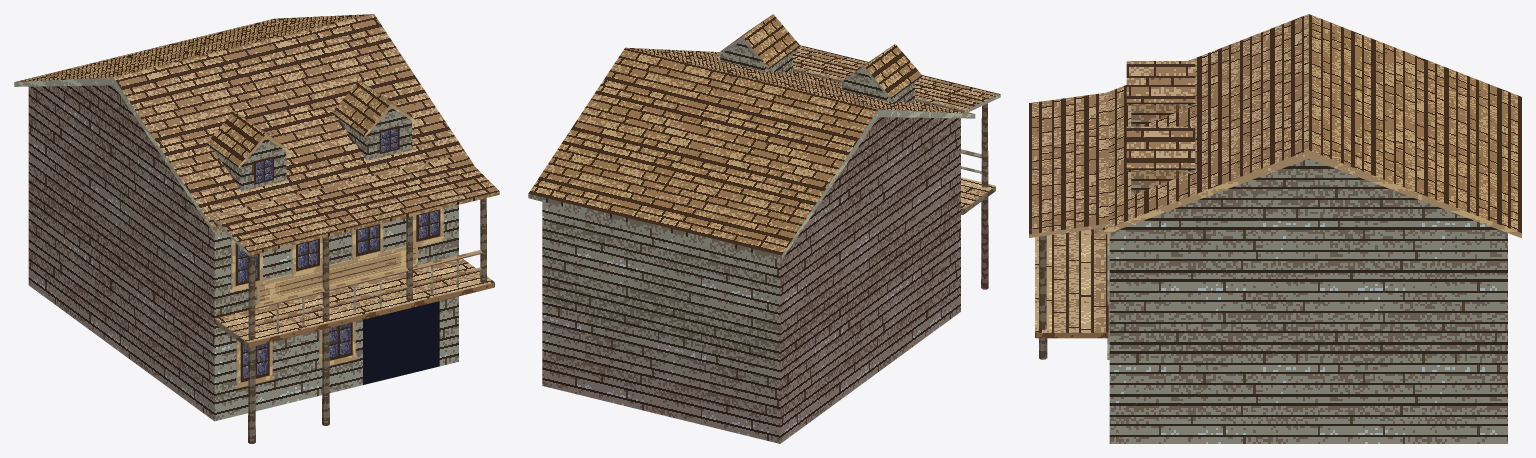
File: wtown.hotel__entry.glb
3 renders of one model, left to right at view 1: azimuth 30°, elevation 25°; view 2: azimuth 150°, elevation 25°; view 3: azimuth 270°, elevation 25°, orthographic. The views are drawn at different scales.
Visible parts, largest first — view 1: kit_body, kit_roof, kit_veranda, kit_card_panes, kit_veranda_roof, kit_dormer_roofs, kit_dormers, kit_windows, kit_trim; view 2: kit_body, kit_roof, kit_dormer_roofs, kit_veranda_roof, kit_veranda, kit_dormers; view 3: kit_body, kit_roof, kit_veranda_roof, kit_veranda, kit_dormer_roofs, kit_dormers.
Part boxes in pixels (left/top/right/bottom): kit_body: left=28, top=85, right=458, bottom=421; kit_roof: left=14, top=14, right=473, bottom=232; kit_veranda: left=214, top=198, right=494, bottom=443; kit_card_panes: left=235, top=126, right=440, bottom=384; kit_veranda_roof: left=211, top=154, right=499, bottom=255; kit_dormer_roofs: left=206, top=80, right=418, bottom=168; kit_dormers: left=215, top=108, right=411, bottom=191; kit_windows: left=229, top=208, right=445, bottom=388; kit_trim: left=256, top=246, right=417, bottom=303; kit_body: left=542, top=117, right=960, bottom=443; kit_roof: left=528, top=47, right=975, bottom=259; kit_dormer_roofs: left=715, top=14, right=921, bottom=99; kit_veranda_roof: left=793, top=45, right=1000, bottom=112; kit_veranda: left=961, top=103, right=995, bottom=289; kit_dormers: left=720, top=41, right=914, bottom=102; kit_body: left=1109, top=158, right=1507, bottom=443; kit_roof: left=1095, top=14, right=1521, bottom=238; kit_veranda_roof: left=1029, top=92, right=1108, bottom=237; kit_veranda: left=1035, top=229, right=1108, bottom=359; kit_dormer_roofs: left=1126, top=61, right=1195, bottom=170; kit_dormers: left=1131, top=105, right=1194, bottom=195.
Size of the model in its own units: 8.1 by 8.25 by 12.37.
10 materials, 10 textured.
